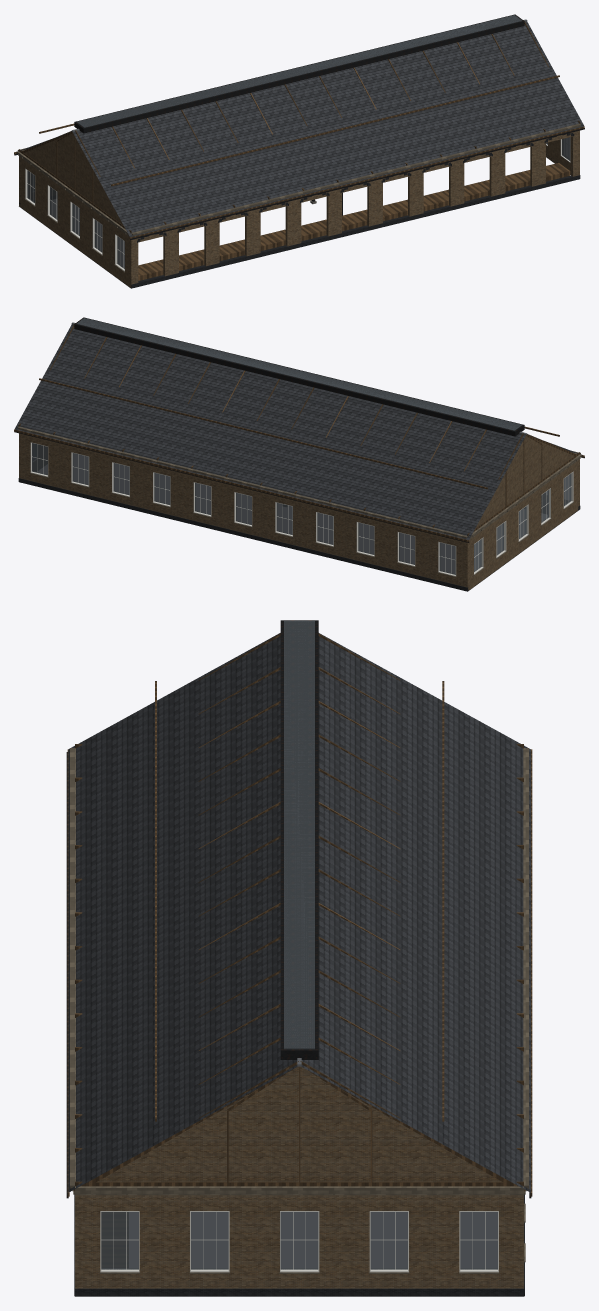
File: A_baggage_hall.glb
The picture shows the model from 3 angles, top to bottom: view 1: azimuth 30°, elevation 25°; view 2: azimuth 150°, elevation 25°; view 3: azimuth 270°, elevation 25°; orthographic projection. The views are drawn at different scales.
Parts seen in each view (by area): view 1: A_baggage_hall; view 2: A_baggage_hall; view 3: A_baggage_hall.
Part boxes in pixels (x1,y1,x2,y2): A_baggage_hall: (14,14,584,288); A_baggage_hall: (14,317,584,591); A_baggage_hall: (66,620,532,1296).
Size of the model in its own units: 60.8 by 15.52 by 26.99.
Materials: 12 (8 with a texture image).
